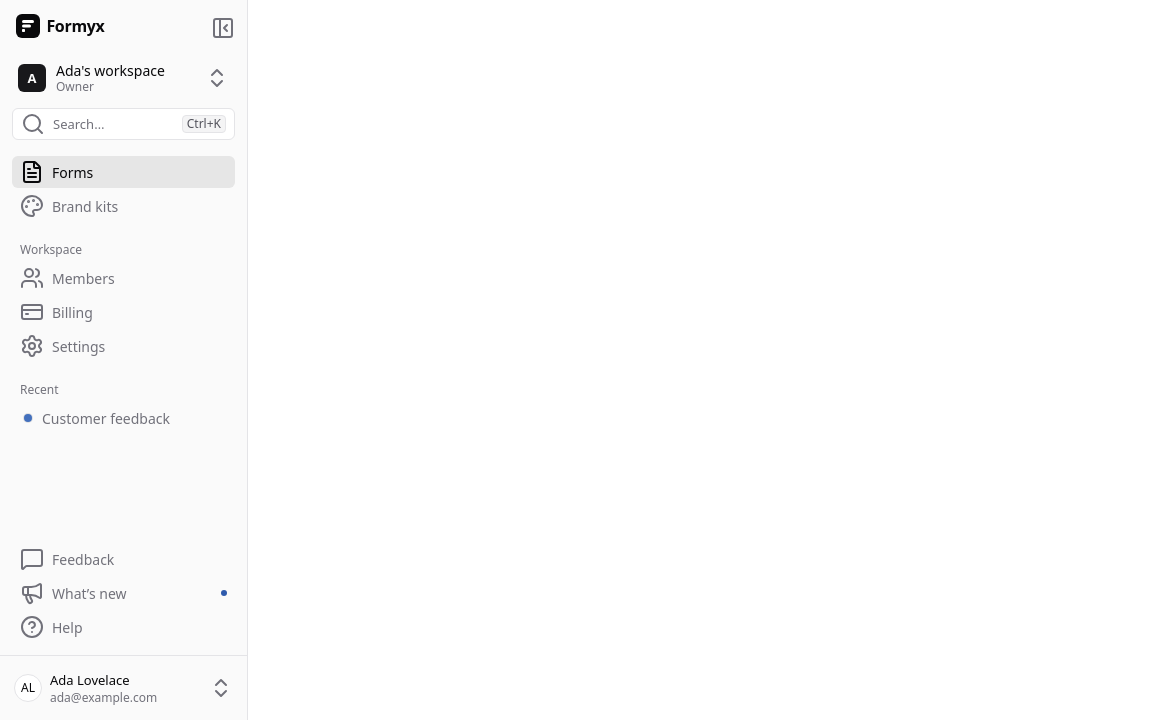
Test case: CommandPalette › opens from the search button in the sidebar
The width and height of the screenshot is (1152, 720).
What coordinates should you click on to do the following:
click the button "Search… Ctrl+K"
I would click on:
 (124, 124)
Its box is x1=12 y1=108 x2=235 y2=140.
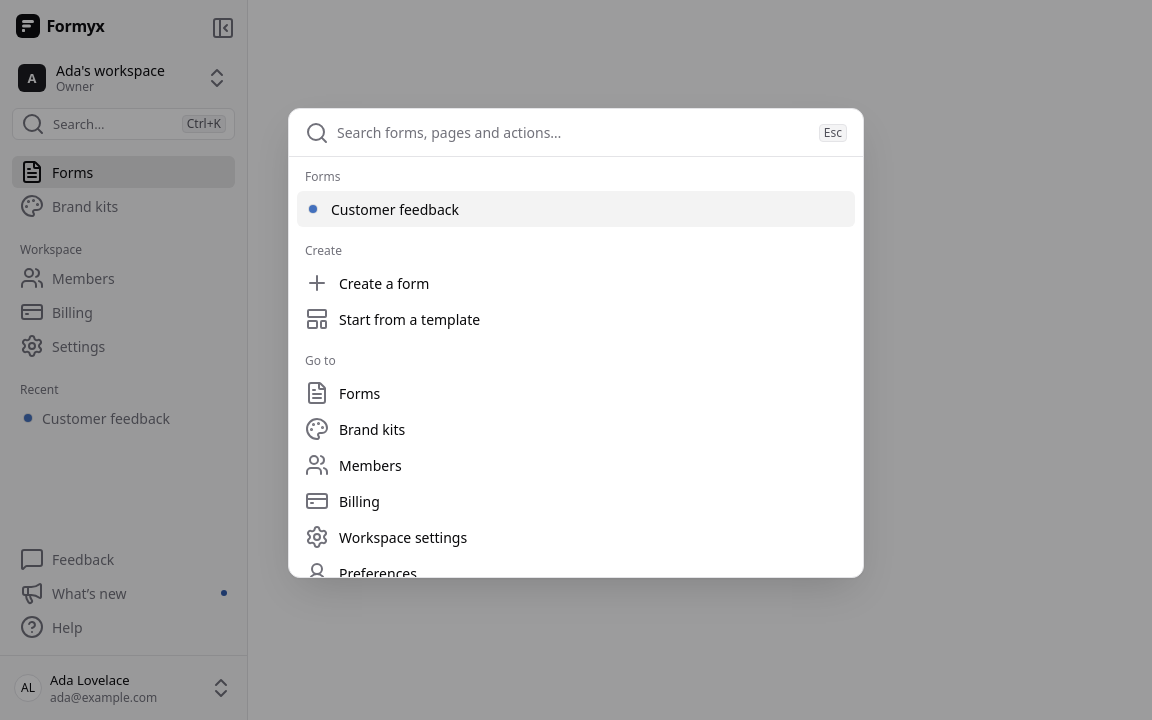
Expected: the dialog named "Search and commands" is shown, x1=288 y1=108 x2=864 y2=578
